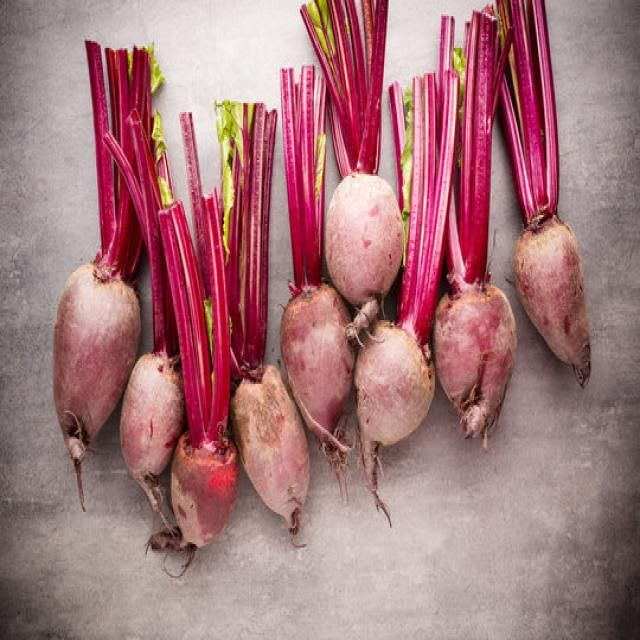Beetroot: (352, 38, 460, 526), (51, 38, 147, 510), (492, 0, 591, 388), (299, 0, 404, 318)
Garlic: (144, 110, 240, 578), (214, 98, 310, 548), (101, 107, 185, 548), (278, 62, 356, 503)
